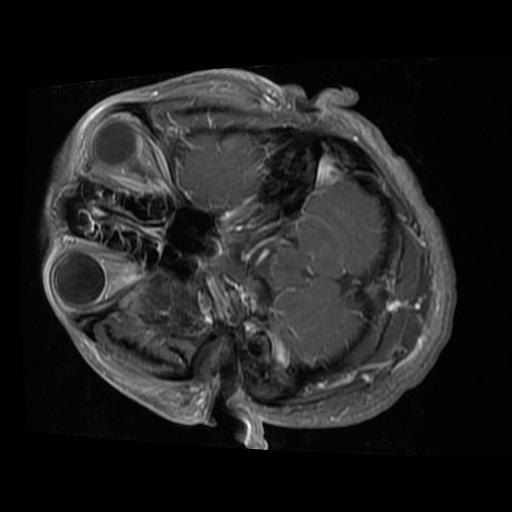glioma: (140, 271, 204, 339)
